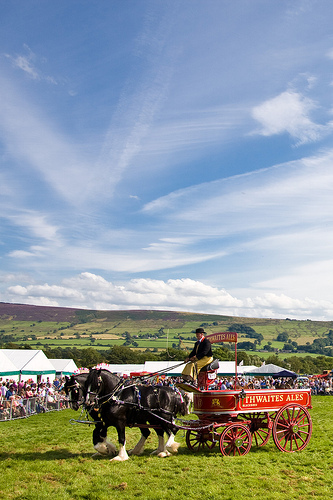horse: (81, 364, 188, 461), (61, 369, 109, 459)
